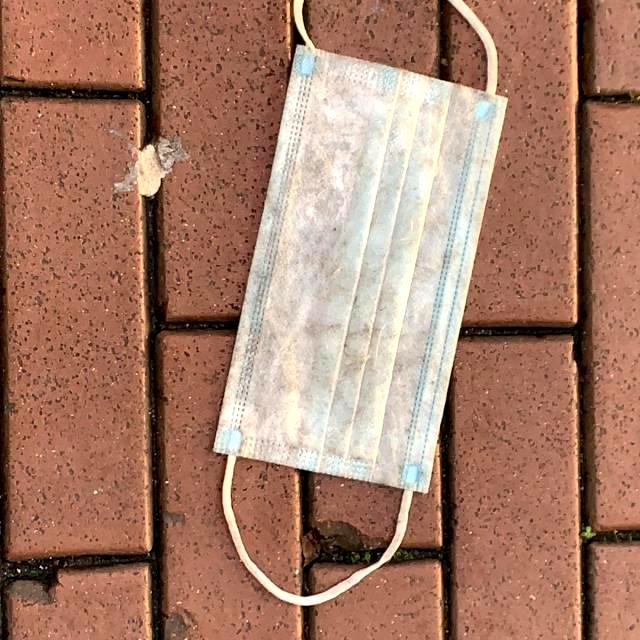Mask: (205, 0, 511, 610)
